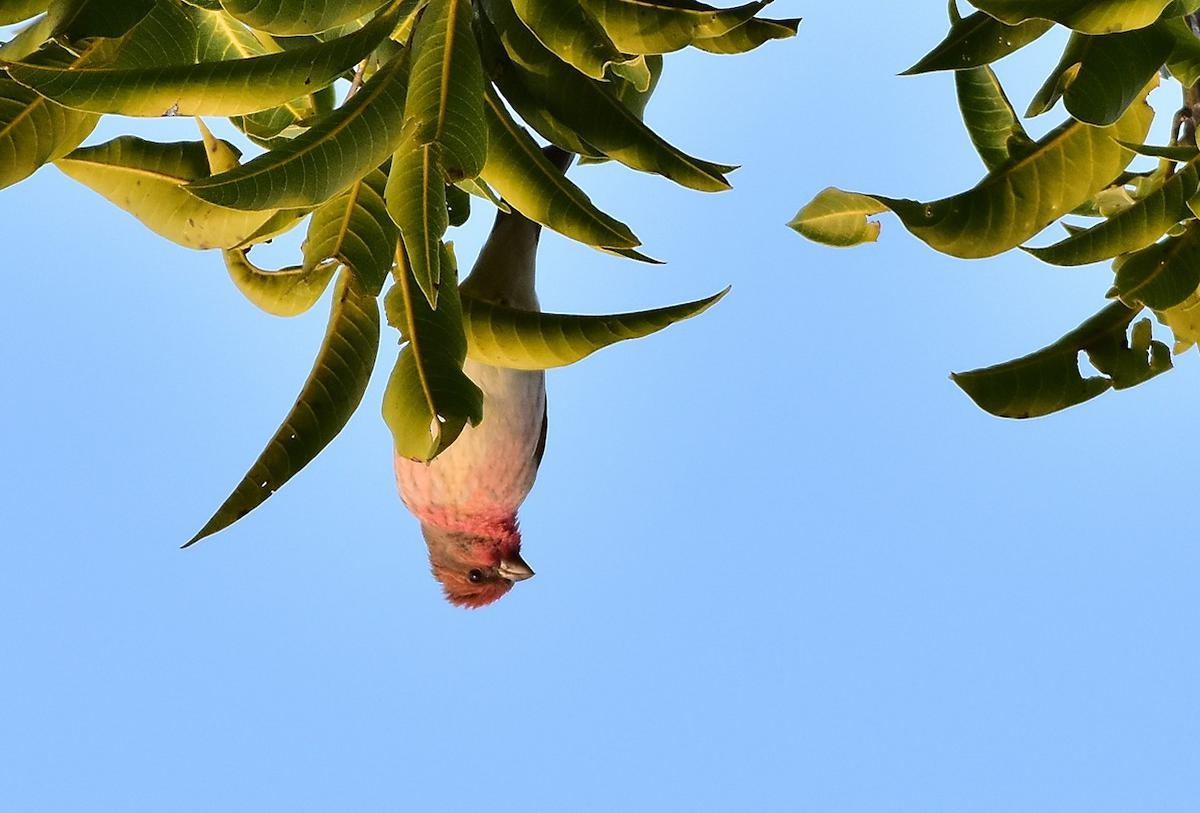rosefinch: (398, 166, 563, 628)
